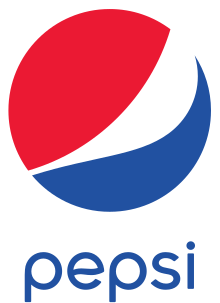pepsi: (0, 0, 217, 221)
